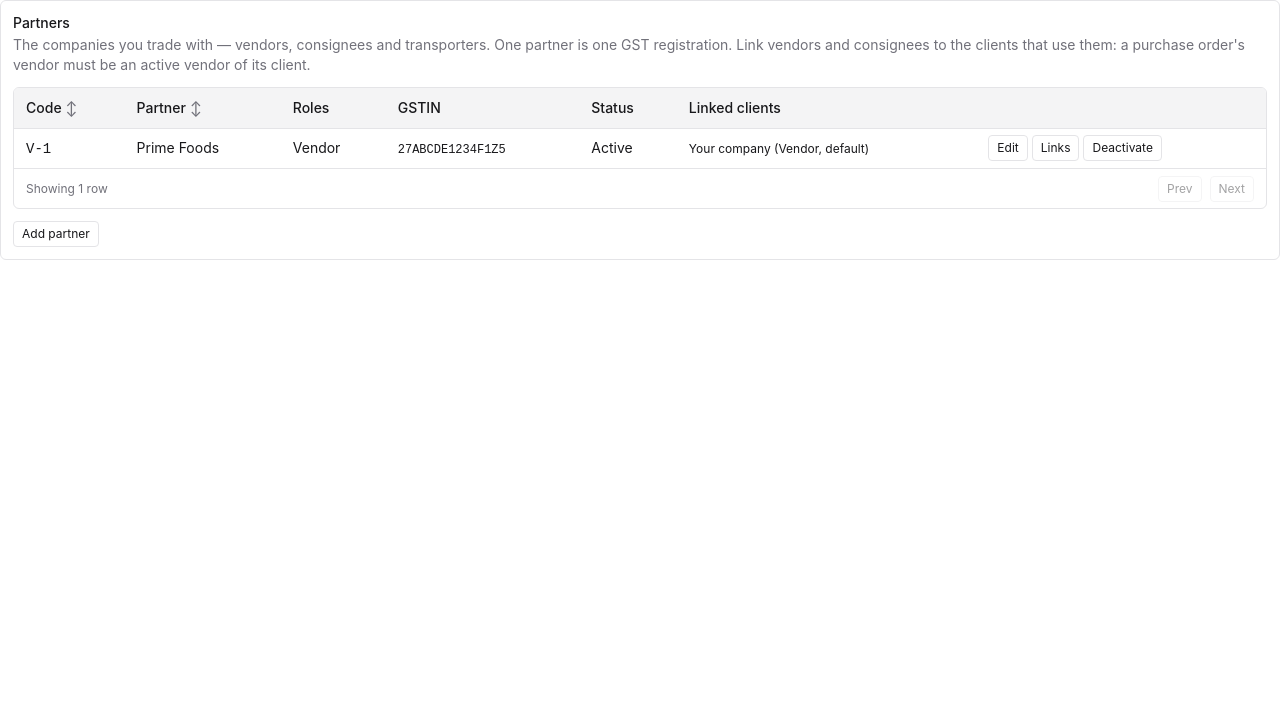
PartnersCard › code review — the links panel shows the partner the server returned, even when the reloaded list page no longer carries it
The width and height of the screenshot is (1280, 720).
Click the button "Links" at [1056, 148], box left=1032, top=135, right=1080, bottom=161
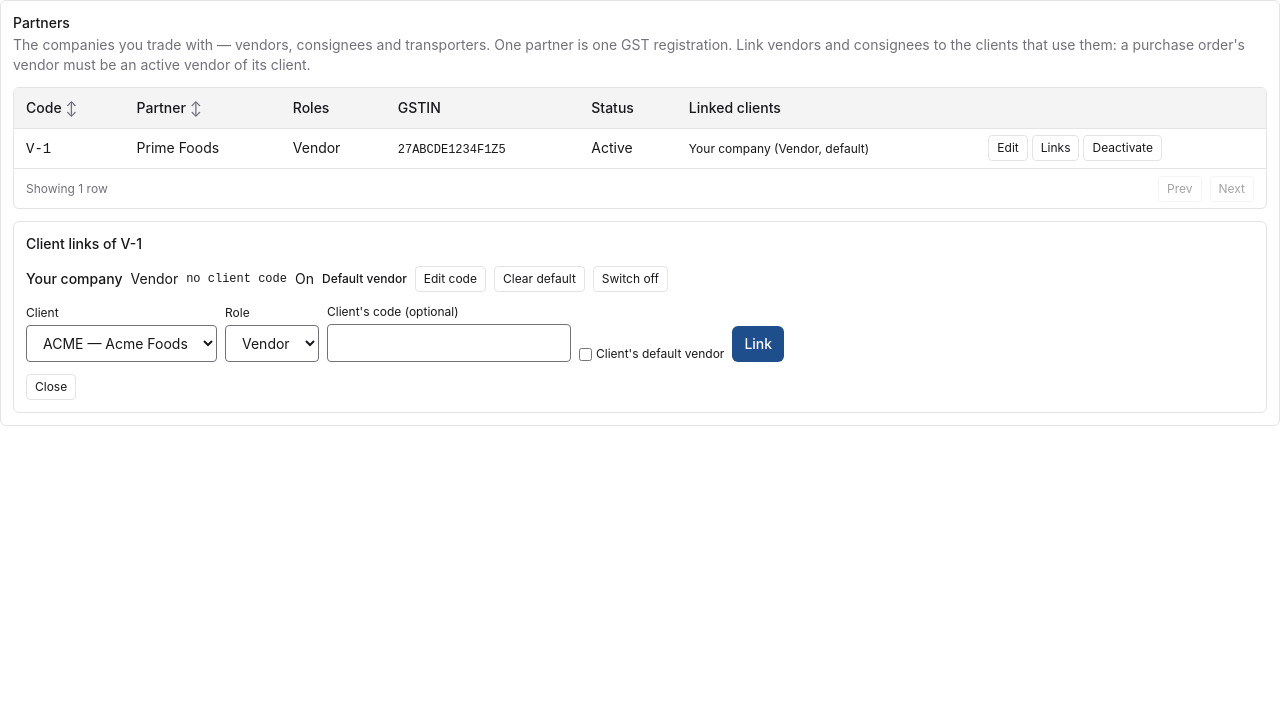
Select "ACME — Acme Foods" in the dropdown labelled "Client" at [122, 344], box left=26, top=325, right=217, bottom=362
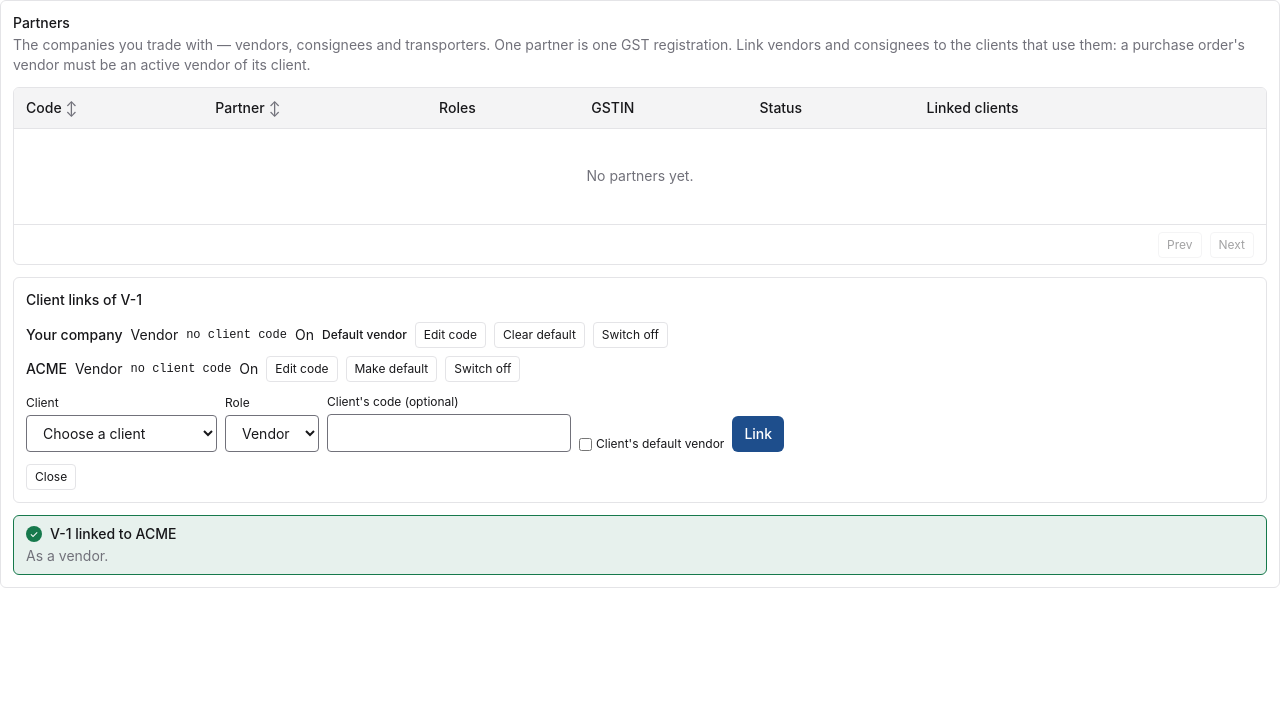
Check: the number of list items is 2, box left=26, top=322, right=668, bottom=348; left=26, top=356, right=520, bottom=382
Check: the list named "Links" shows "ACME", box left=26, top=360, right=67, bottom=377
